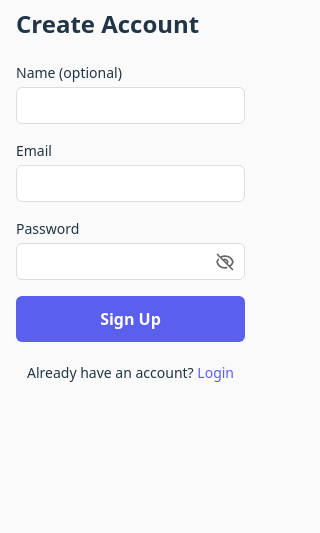
Signup Page › Password Strength Indicator › shows password strength indicator when typing password
Check: the text "password strength" is not shown
// Type password
In the password field labelled "Password": (130, 262) [16,243,245,280], type "test"
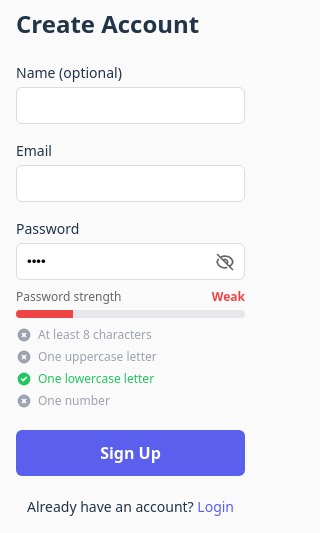
Check: the text "Password strength" is shown, box [16,288,122,306]
